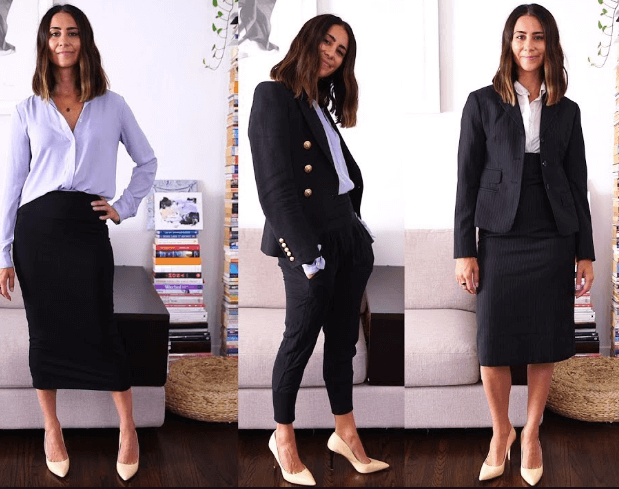F_W_suit jacket: (451, 82, 599, 265), (244, 75, 381, 260)
